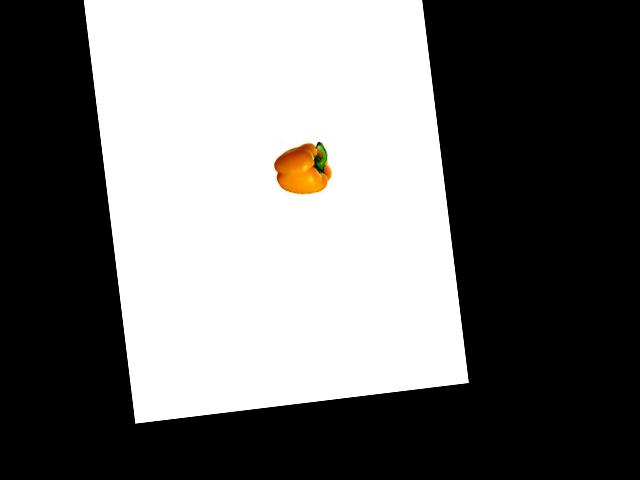bell_pepper: (269, 134, 339, 201)
